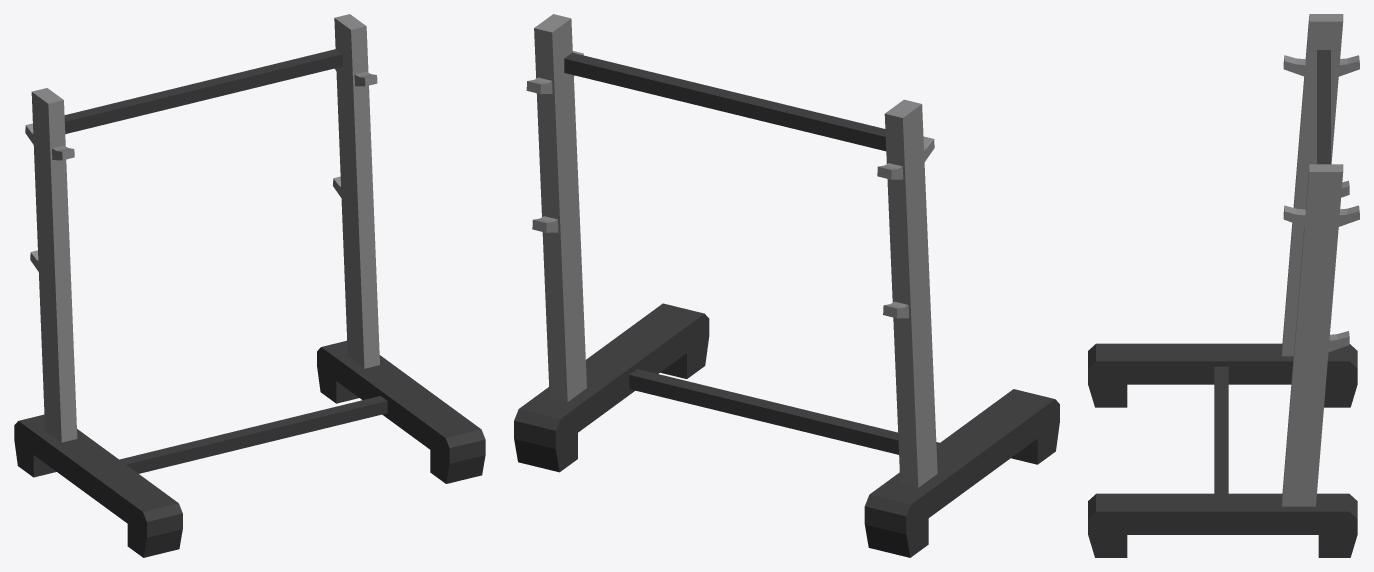
The model's file is Weight_Stand_3.fbx.
3 renders of one model, left to right at view 1: azimuth 30°, elevation 25°; view 2: azimuth 150°, elevation 25°; view 3: azimuth 270°, elevation 25°, orthographic. The views are drawn at different scales.
Parts seen in each view (by area): view 1: Weight_Stand_3; view 2: Weight_Stand_3; view 3: Weight_Stand_3.
Boxes of the visible parts, x1=… form: Weight_Stand_3: x1=14, y1=14, x2=485, y2=557; Weight_Stand_3: x1=514, y1=14, x2=1059, y2=557; Weight_Stand_3: x1=1088, y1=14, x2=1359, y2=557.
Bounding box in the file's own units: 124 × 131 × 85.01.
